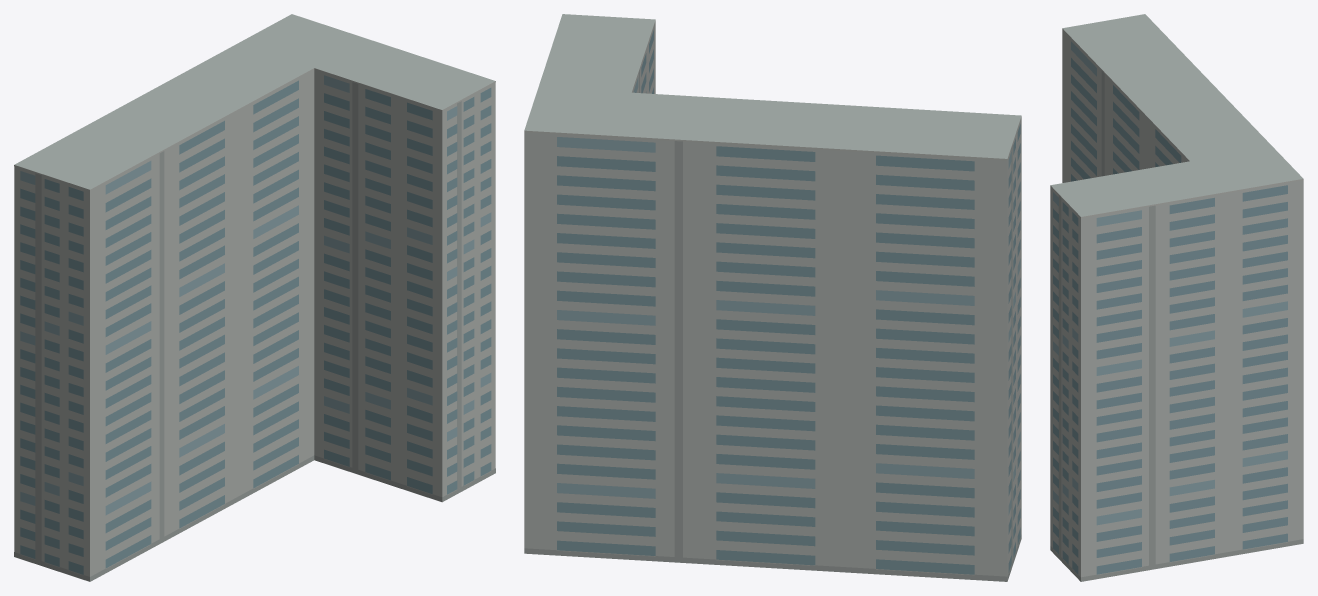
Rendered from residential-a4a9702e-3f66-47c2-bdf5-21240a89c9e9.glb.
3 views of the same model, side by side, from view 1: azimuth 30°, elevation 25°; view 2: azimuth 150°, elevation 25°; view 3: azimuth 270°, elevation 25° (orthographic). The views are drawn at different scales.
Parts seen in each view (by area): view 1: residential-a4a9702e-3f66-47c2-bdf5-21240a89c9e9.tmp; view 2: residential-a4a9702e-3f66-47c2-bdf5-21240a89c9e9.tmp; view 3: residential-a4a9702e-3f66-47c2-bdf5-21240a89c9e9.tmp.
Boxes of the visible parts, <box> form: residential-a4a9702e-3f66-47c2-bdf5-21240a89c9e9.tmp: <box>14,14,495,581</box>; residential-a4a9702e-3f66-47c2-bdf5-21240a89c9e9.tmp: <box>524,14,1021,581</box>; residential-a4a9702e-3f66-47c2-bdf5-21240a89c9e9.tmp: <box>1050,14,1303,581</box>.
Size of the model in its own units: 80.07 by 67.1 by 42.22.
